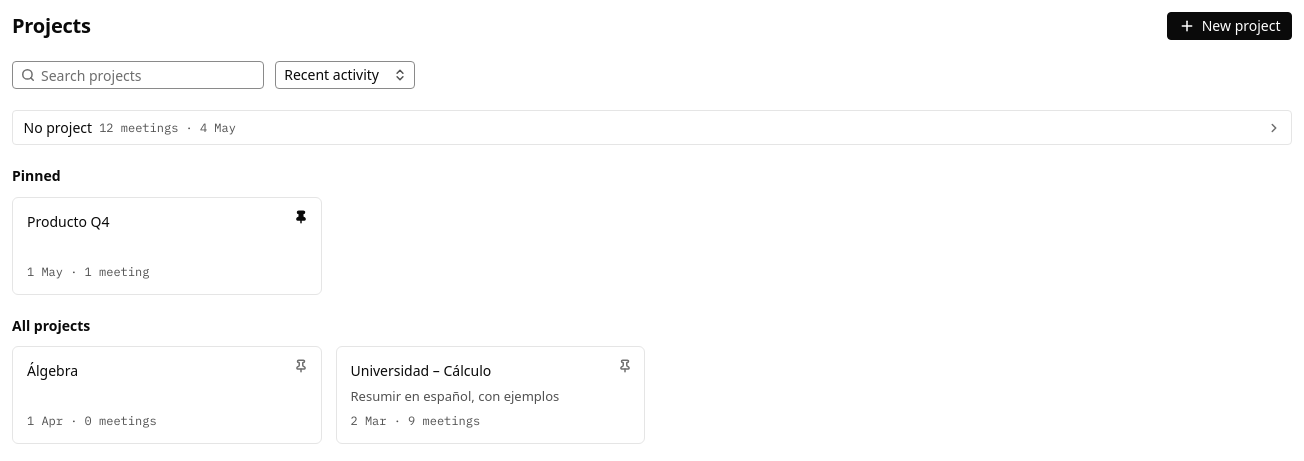
Test: ProjectsRoute › pins and unpins, and the grid follows the answer
Click the button named "Pin Álgebra". click: [301, 366]
box: [289,354,314,378]
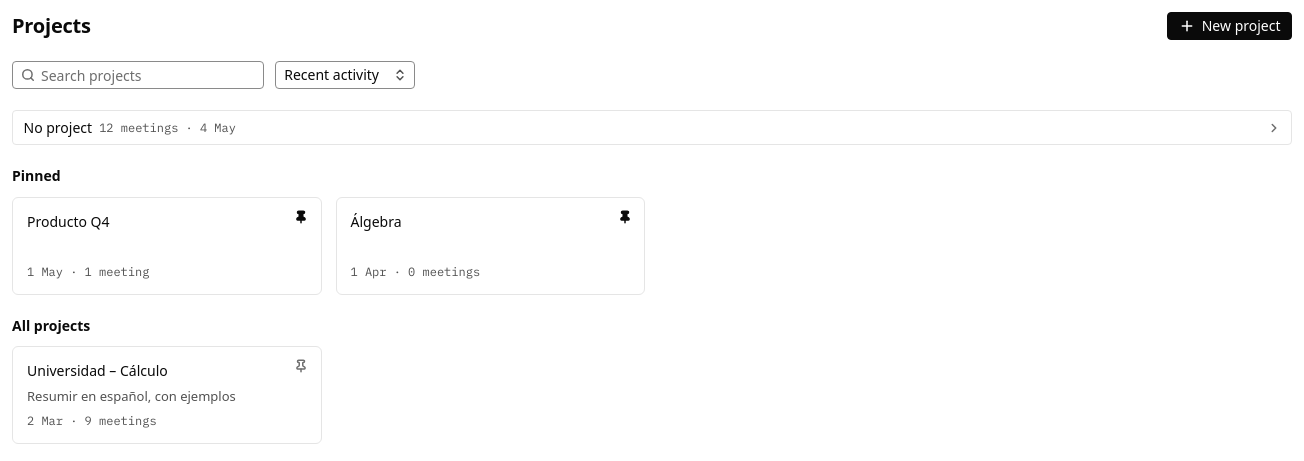
expect the button named "Unpin Álgebra" is shown: met, box [612,204,637,229]
